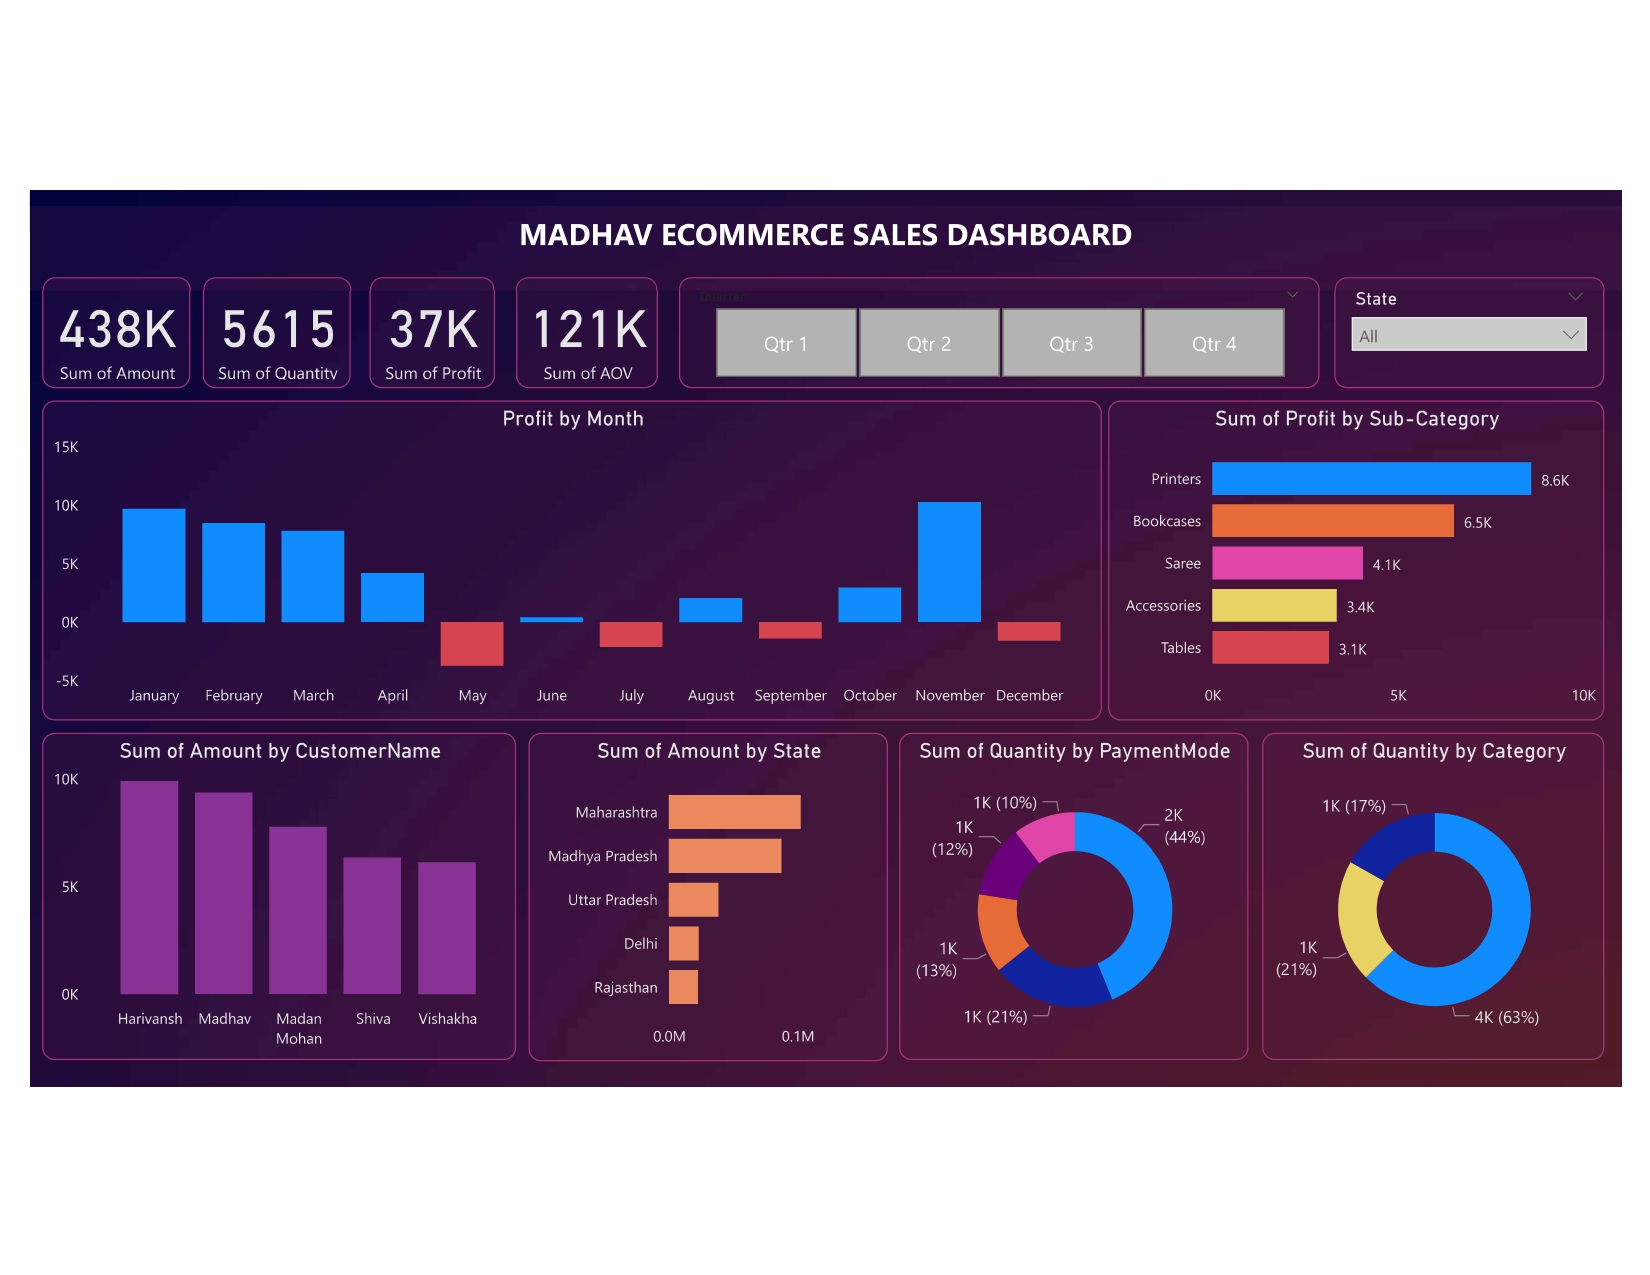

This screenshot's page, from the dashboard's own definition file:
{"tool":"powerbi","page":{"name":"DASHBOARD","canvas":[1280,720],"ordinal":0},"visuals":[{"type":"columnChart","title":"Profit by Month","fields":{"Category":["Orders (2).Order Date.Variation.Date Hierarchy.Month"],"Y":["Details (1).Profit"]},"box":[9.6,168.8,852.7,256.9],"z":0},{"type":"barChart","fields":{"Category":["Details (1).Sub-Category"],"Y":["Details (1).Profit"]},"box":[867.1,168.8,399.2,256.9],"z":1000},{"type":"donutChart","fields":{"Category":["Details (1).Category"],"Y":["Details (1).Quantity"]},"box":[991.2,436.2,275,262.5],"z":2000},{"type":"donutChart","fields":{"Y":["Details (1).Quantity"],"Category":["Details (1).PaymentMode"]},"box":[698.8,436.2,281.2,262.5],"z":3000},{"type":"card","fields":{"Values":["Details (1).Amount"]},"box":[9.6,69.9,119.4,89.2],"z":4000},{"type":"card","fields":{"Values":["Details (1).Quantity"]},"box":[138.7,69.9,119.4,89.2],"z":5000},{"type":"card","fields":{"Values":["Details (1).Profit"]},"box":[272.6,69.9,101.3,89.2],"z":6000},{"type":"card","fields":{"Values":["Details (1).AOV"]},"box":[390.8,69.9,114.6,89.2],"z":7000},{"type":"barChart","fields":{"Category":["Orders (2).State"],"Y":["Details (1).Amount"]},"box":[401.2,436.2,288.8,263.8],"z":8000},{"type":"columnChart","fields":{"Category":["Orders (2).CustomerName"],"Y":["Details (1).Amount"]},"box":[10,436.2,381.2,262.5],"z":9000},{"type":"slicer","fields":{"Values":["Orders (2).Order Date.Variation.Date Hierarchy.Quarter"]},"box":[522.2,69.9,515,89.2],"z":10000},{"type":"slicer","fields":{"Values":["Orders (2).State"]},"box":[1049.2,69.9,217.1,89.2],"z":11000},{"type":"textbox","box":[0,13.3,1279.6,67.5],"z":12000}]}

Visuals, with their boxes in screenshot pixels (x1, y1, x2, y2):
"Profit by Month" columnChart: Rect(21, 412, 1105, 739)
barChart - Details (1).Sub-Category x Details (1).Profit: Rect(1111, 412, 1618, 739)
donutChart - Details (1).Category x Details (1).Quantity: Rect(1269, 752, 1618, 1086)
donutChart - Details (1).Quantity x Details (1).PaymentMode: Rect(897, 752, 1254, 1086)
card - Details (1).Amount: Rect(21, 287, 173, 400)
card - Details (1).Quantity: Rect(185, 287, 337, 400)
card - Details (1).Profit: Rect(355, 287, 484, 400)
card - Details (1).AOV: Rect(505, 287, 651, 400)
barChart - Orders (2).State x Details (1).Amount: Rect(519, 752, 886, 1088)
columnChart - Orders (2).CustomerName x Details (1).Amount: Rect(21, 752, 506, 1086)
slicer - Orders (2).Order Date.Variation.Date Hierarchy.Quarter: Rect(672, 287, 1327, 400)
slicer - Orders (2).State: Rect(1342, 287, 1618, 400)
textbox: Rect(9, 215, 1635, 300)
